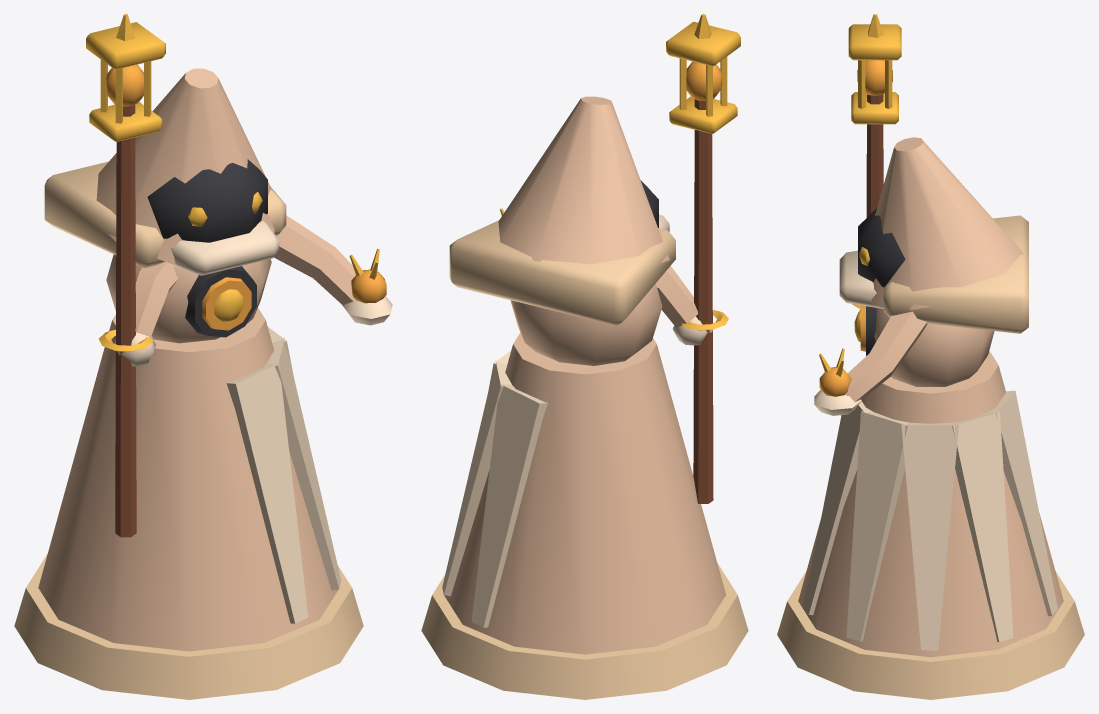
File: lightbearer.glb
3 views of the same model, side by side, from view 1: azimuth 30°, elevation 25°; view 2: azimuth 150°, elevation 25°; view 3: azimuth 270°, elevation 25° (orthographic). The views are drawn at different scales.
Parts seen in each view (by area): view 1: Lightbearer; view 2: Lightbearer; view 3: Lightbearer.
Part boxes in pixels (x1,y1,x2,y2): Lightbearer: [14, 14, 392, 699]; Lightbearer: [421, 14, 748, 699]; Lightbearer: [777, 14, 1084, 699].
Bounding box in the file's own units: 0.891 × 1.85 × 0.891.
1 material, 1 textured.
